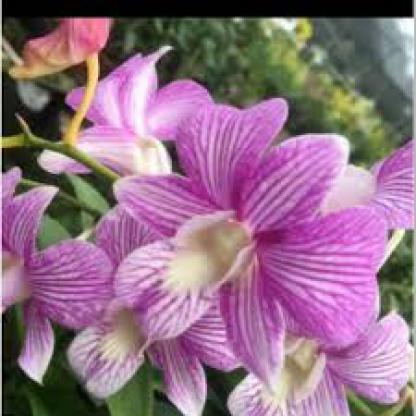ANGGREK: (49, 34, 399, 397)
